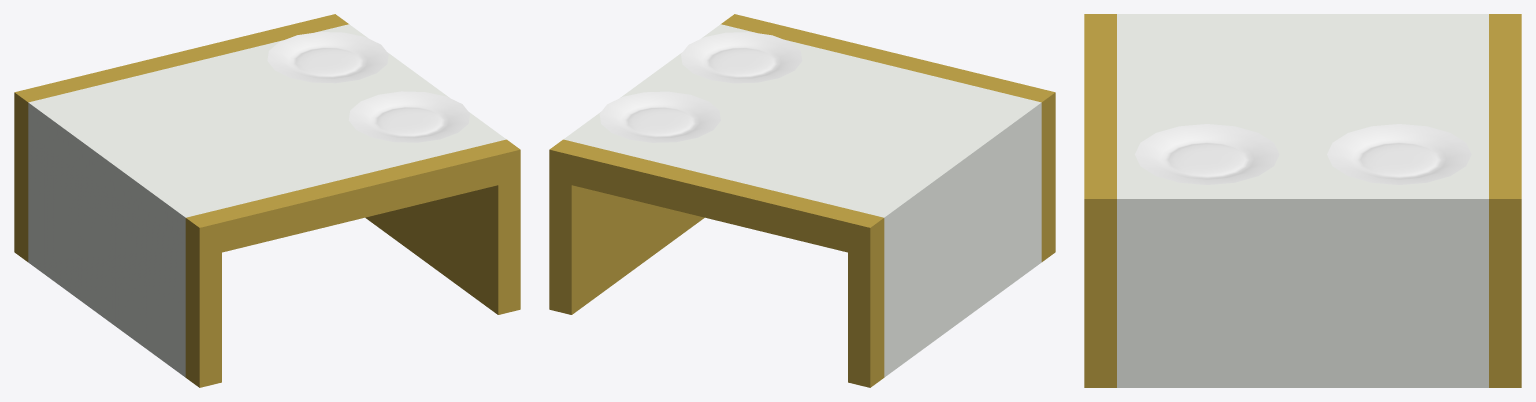
Rendered from Table.fbx.
The picture shows the model from 3 angles, left to right: view 1: azimuth 30°, elevation 25°; view 2: azimuth 150°, elevation 25°; view 3: azimuth 270°, elevation 25°; orthographic projection. The views are drawn at different scales.
Visible parts, largest first — view 1: Cube; view 2: Cube; view 3: Cube.
Part boxes in pixels (x1,y1,x2,y2): Cube: (14,14,520,387); Cube: (549,14,1055,387); Cube: (1084,14,1521,387).
Size of the model in its own units: 1247 by 627 by 1247.
Materials: 3 (3 with a texture image).
